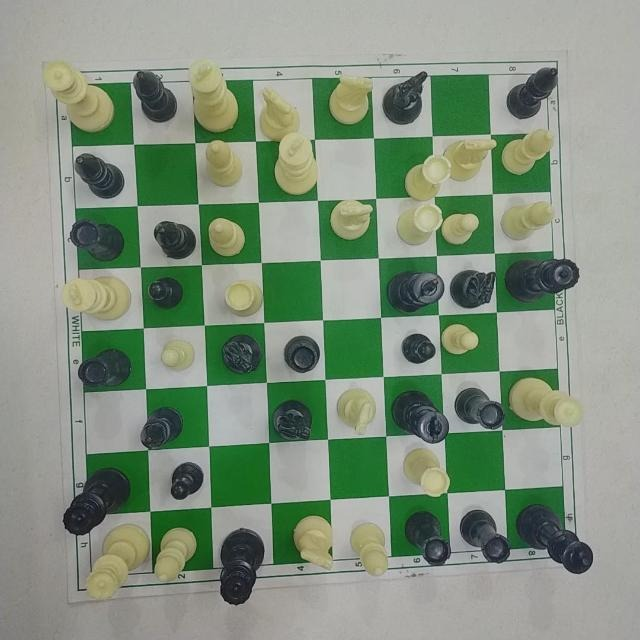black-bishop: (128, 67, 184, 131), (69, 149, 133, 204), (508, 64, 566, 120), (136, 402, 187, 451), (151, 215, 199, 264)
black-king: (519, 500, 602, 578), (391, 387, 455, 447), (385, 267, 449, 317)
black-knight: (381, 66, 431, 126), (266, 394, 315, 444), (452, 264, 503, 308), (221, 329, 263, 379)
black-pawn: (147, 269, 195, 312), (163, 460, 212, 500), (397, 329, 440, 371)
black-queen: (60, 465, 129, 537), (210, 523, 271, 604), (506, 252, 583, 301)
black-rook: (461, 506, 516, 568), (68, 215, 134, 266), (72, 343, 137, 394), (405, 506, 455, 568), (457, 380, 509, 436), (283, 327, 325, 377)
white-bishop: (151, 520, 200, 589), (503, 127, 560, 183), (348, 516, 394, 581), (500, 197, 556, 245), (206, 215, 255, 261), (204, 139, 248, 189)
white-king: (186, 57, 244, 132), (61, 273, 135, 325), (270, 134, 329, 196)
white-knight: (287, 512, 342, 574), (326, 71, 375, 125), (334, 384, 382, 438), (444, 135, 497, 183), (257, 85, 307, 135), (330, 196, 377, 246)
white-pawn: (157, 336, 202, 382), (444, 206, 488, 246), (444, 320, 481, 358)
white-queen: (41, 58, 118, 136), (78, 523, 152, 600), (509, 372, 584, 433)
white-rook: (401, 441, 456, 496), (402, 154, 451, 201), (396, 201, 444, 247), (221, 276, 272, 318)
